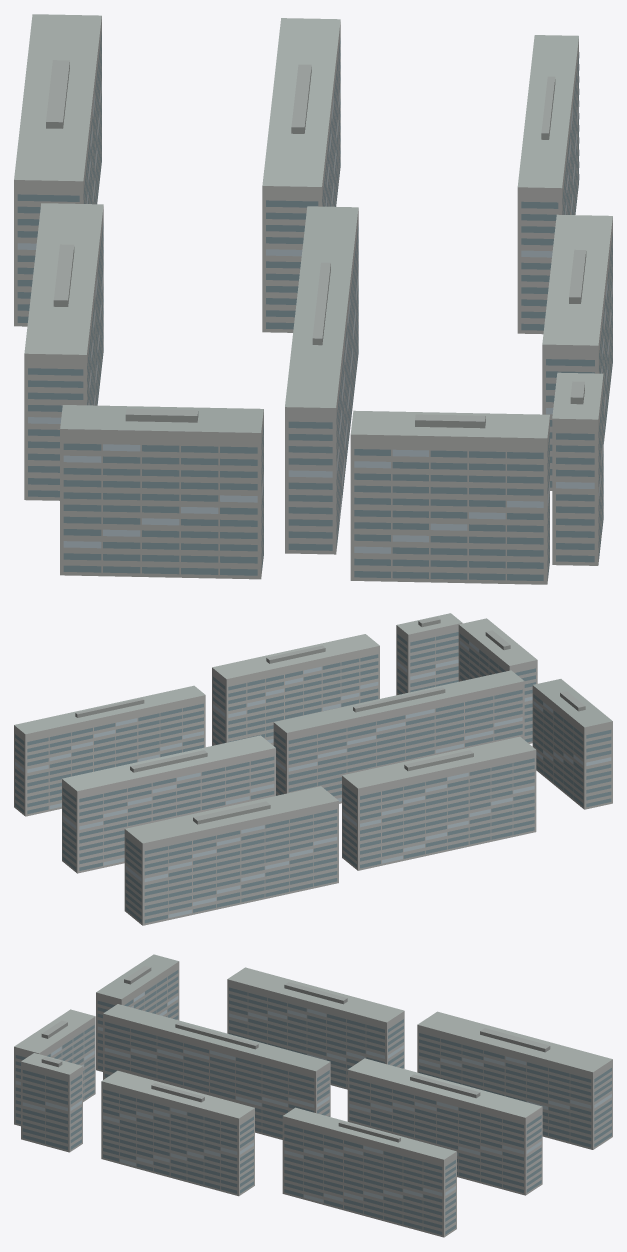
File: apt-a13885304.glb
3 renders of one model, top to bottom at view 1: azimuth 30°, elevation 25°; view 2: azimuth 150°, elevation 25°; view 3: azimuth 270°, elevation 25°, orthographic. The views are drawn at different scales.
Visible parts, largest first — view 1: apt-a13885304; view 2: apt-a13885304; view 3: apt-a13885304.
Boxes of the visible parts, x1,y1,x2,y2 form: apt-a13885304: (14,14,612,584); apt-a13885304: (14,613,612,925); apt-a13885304: (14,954,612,1237).
Bounding box in the file's own units: 207 × 38.25 × 255.
